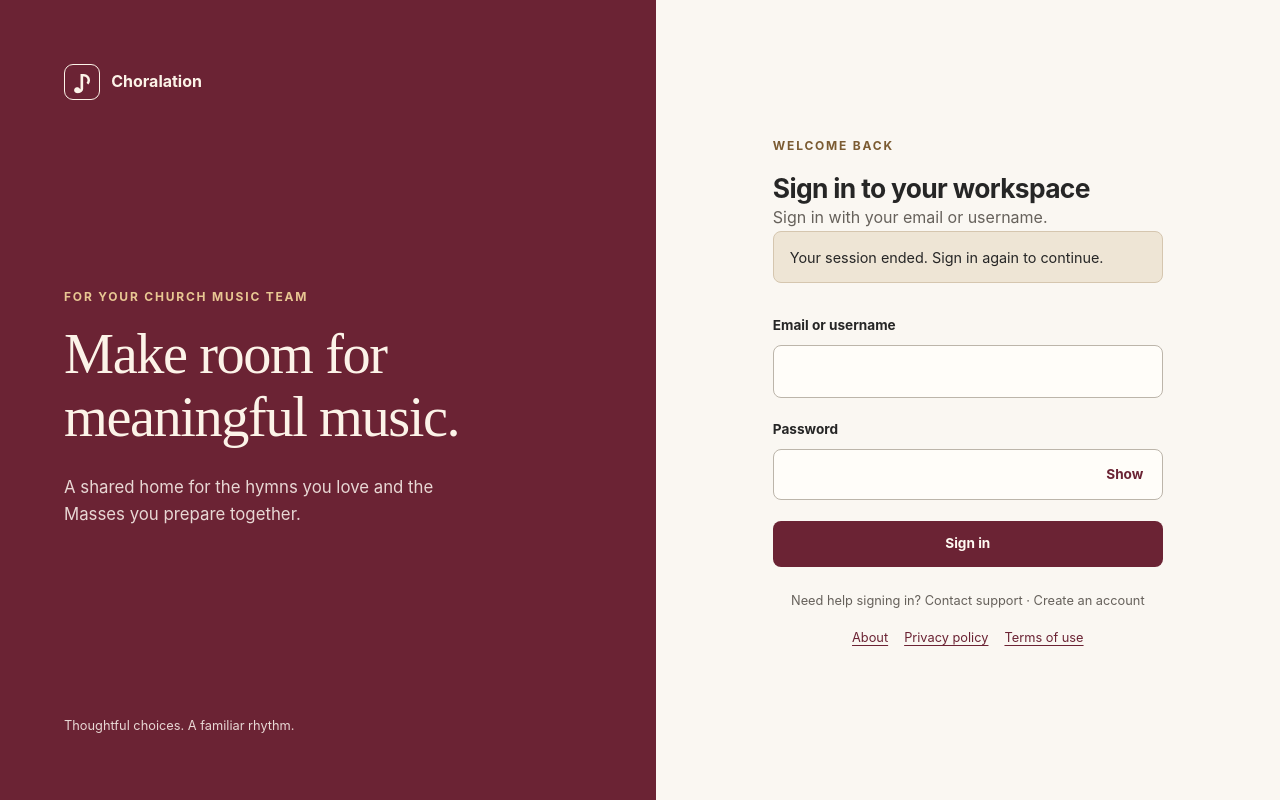
protects a direct workspace visit and associates required errors with inputs
Expected: the heading "Sign in to your workspace" is shown, 773,172 -> 1090,204
Step 1. Click the button "Sign in" → {"x": 968, "y": 544}, box 773,521 -> 1163,567
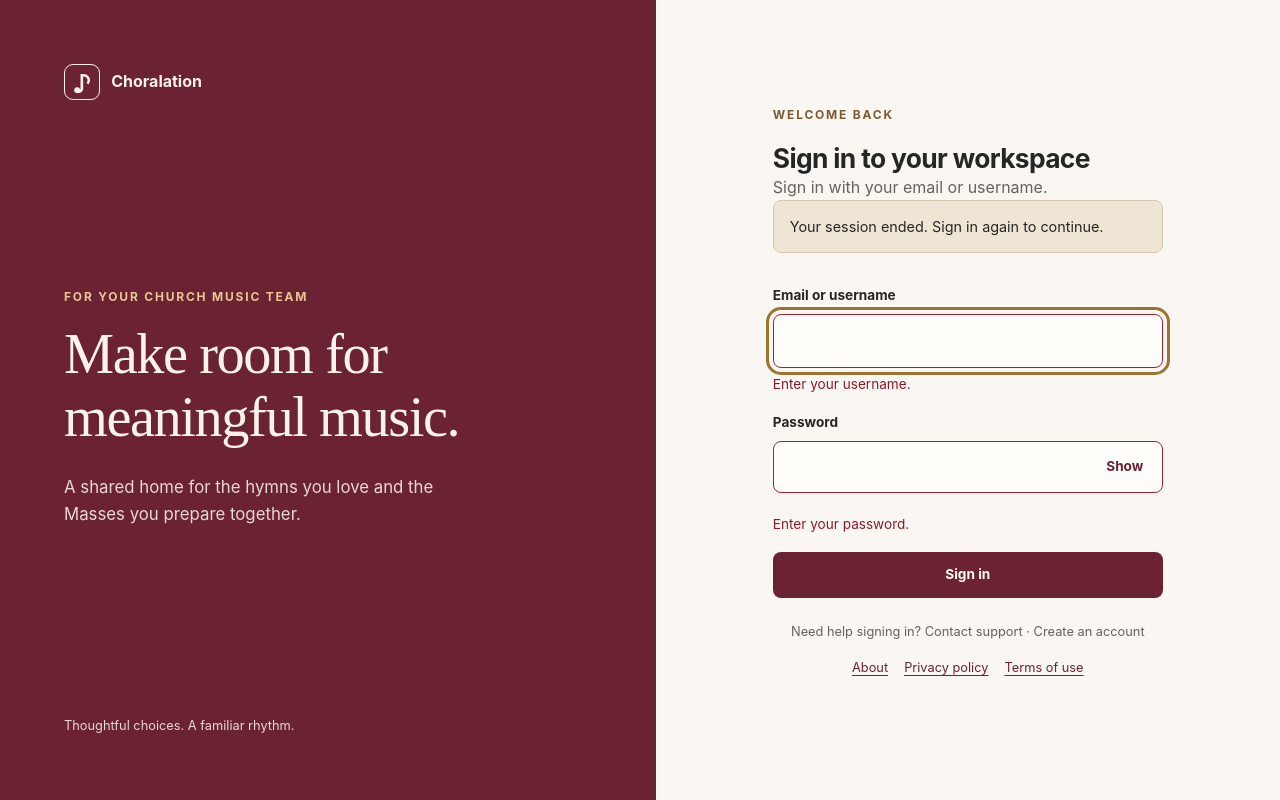
Now the text "Enter your username." is shown, box 773,376 -> 911,392
